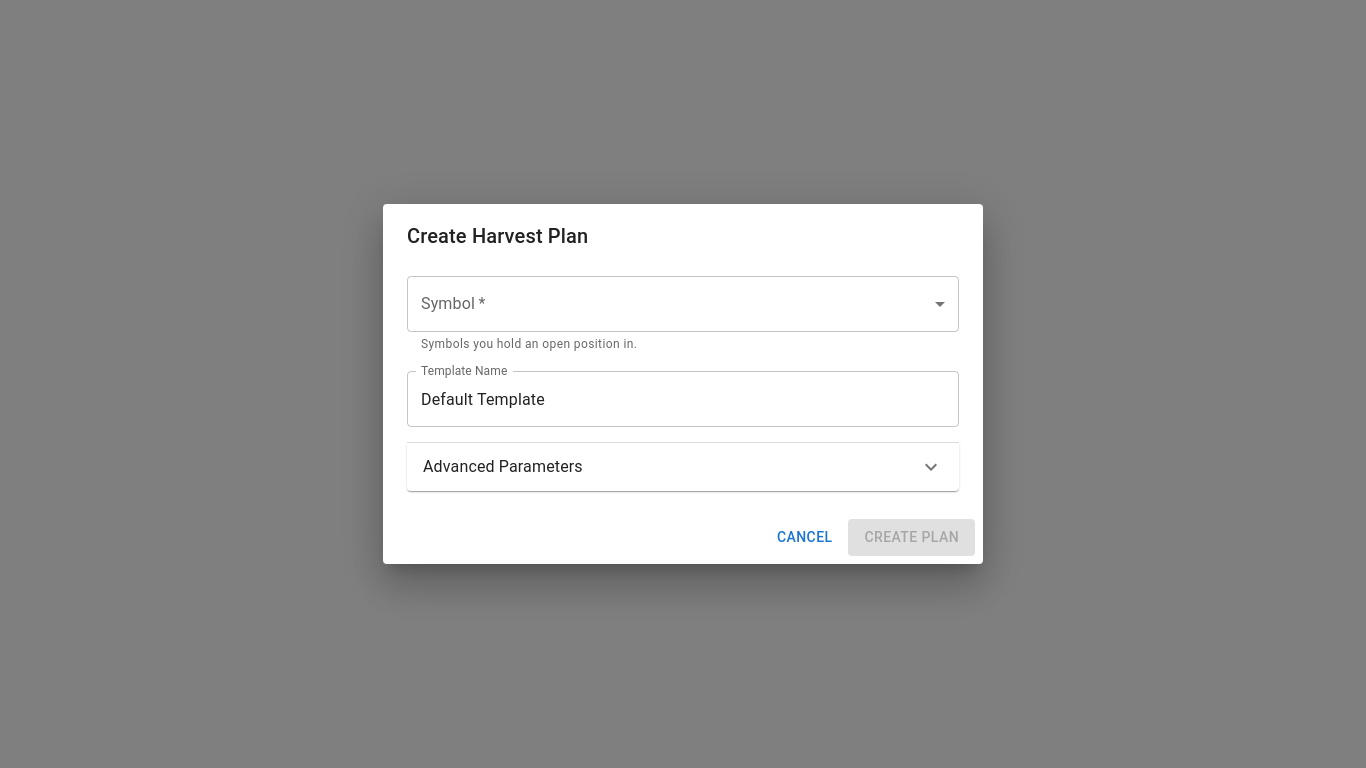
Test: CreatePlanDialog › offers only the symbols the caller holds
Press the mouse on the dropdown: (683, 304) [407,276,959,332]
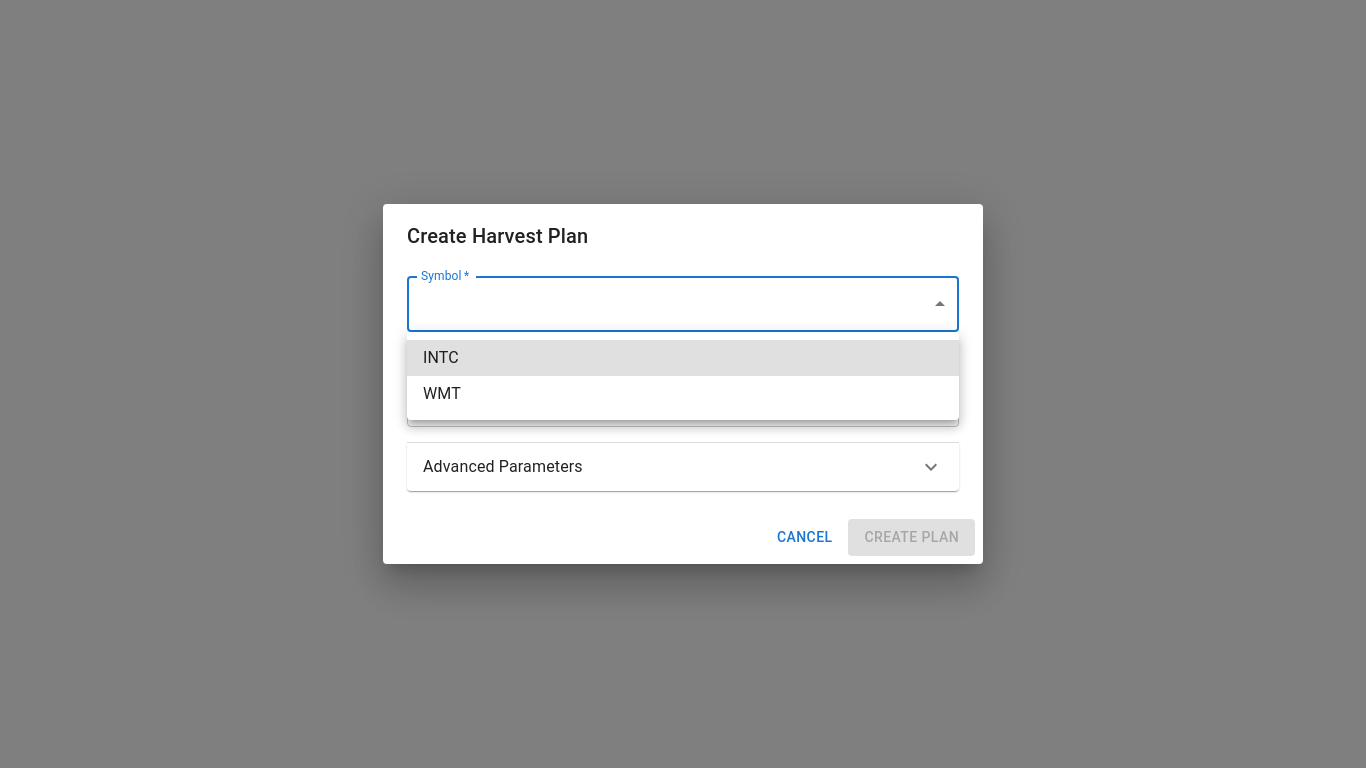
Now the options read "INTC", "WMT", in this order, box [407,340,959,376]; [423,384,461,403]
